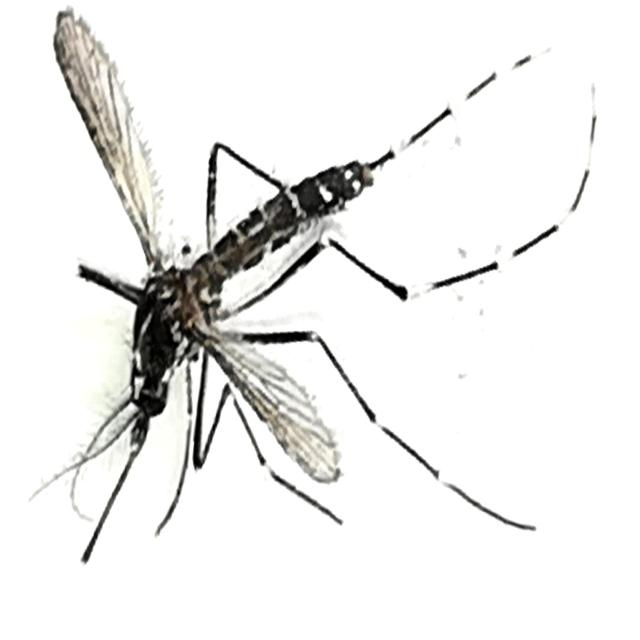albopictus: (20, 23, 575, 584)
